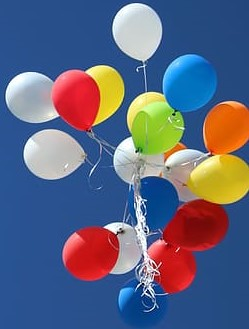Balloon: (23, 128, 88, 180), (165, 201, 229, 250), (164, 54, 217, 113), (188, 154, 249, 204), (53, 68, 102, 130), (61, 226, 118, 279), (111, 2, 163, 60), (127, 174, 175, 231), (117, 275, 168, 326), (5, 72, 56, 122), (133, 104, 184, 153), (203, 101, 249, 153)
